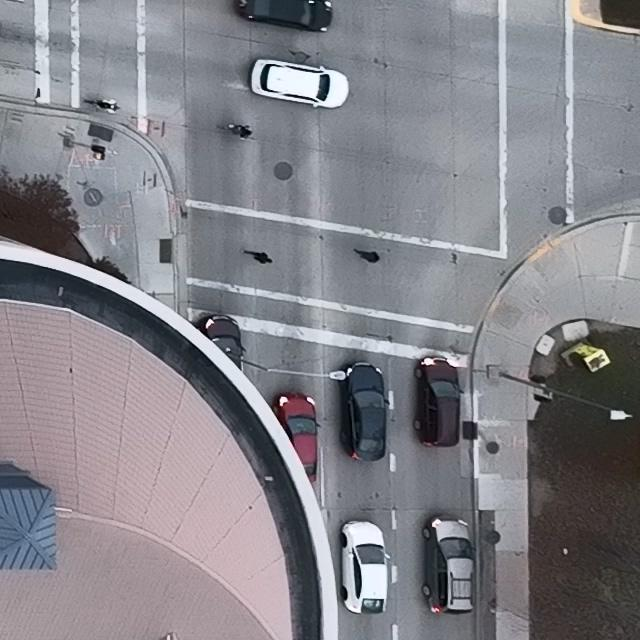car: (422, 516, 477, 615), (339, 361, 391, 461), (249, 58, 349, 109), (340, 520, 391, 615), (414, 356, 464, 446), (274, 394, 321, 479), (233, 0, 333, 31), (199, 313, 246, 373)
